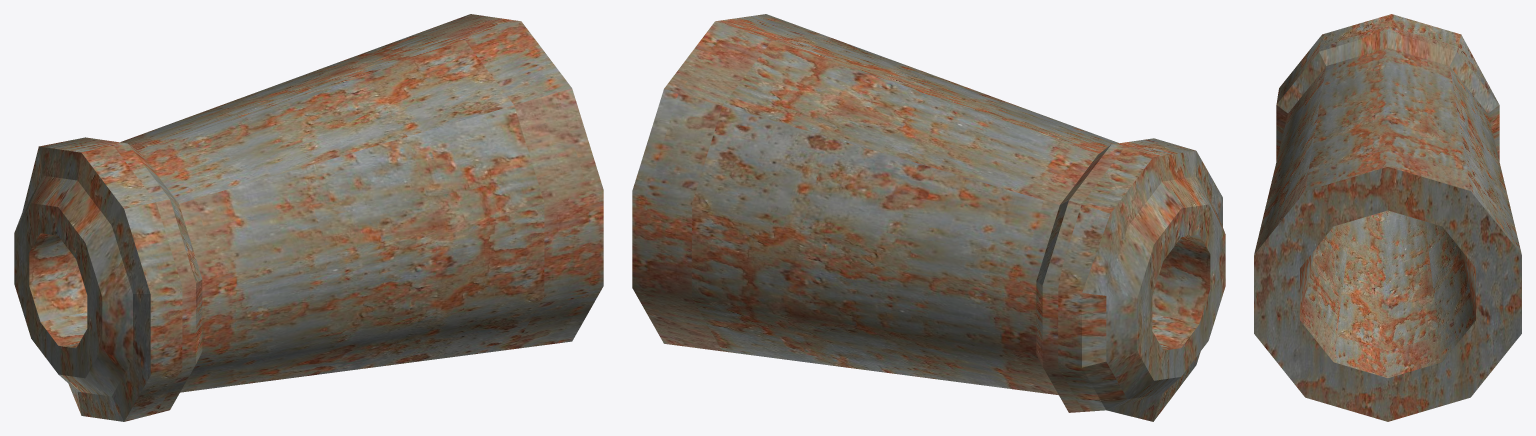
File: cannon.FBX
The picture shows the model from 3 angles, left to right: view 1: azimuth 30°, elevation 25°; view 2: azimuth 150°, elevation 25°; view 3: azimuth 270°, elevation 25°; orthographic projection. The views are drawn at different scales.
Parts seen in each view (by area): view 1: cannon; view 2: cannon; view 3: cannon.
Part boxes in pixels (left/top/right/bottom): cannon: left=14, top=14, right=603, bottom=421; cannon: left=632, top=14, right=1225, bottom=421; cannon: left=1254, top=14, right=1521, bottom=421.
Bounding box in the file's own units: 51.96 × 33.56 × 31.92.
